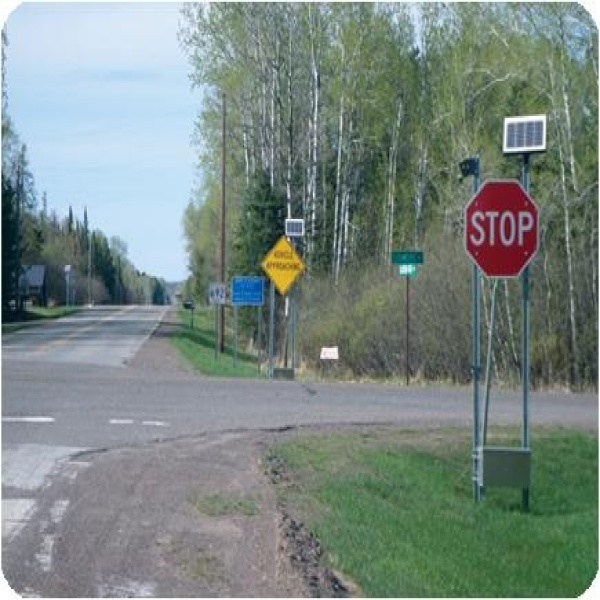stop: (468, 182, 539, 281)
